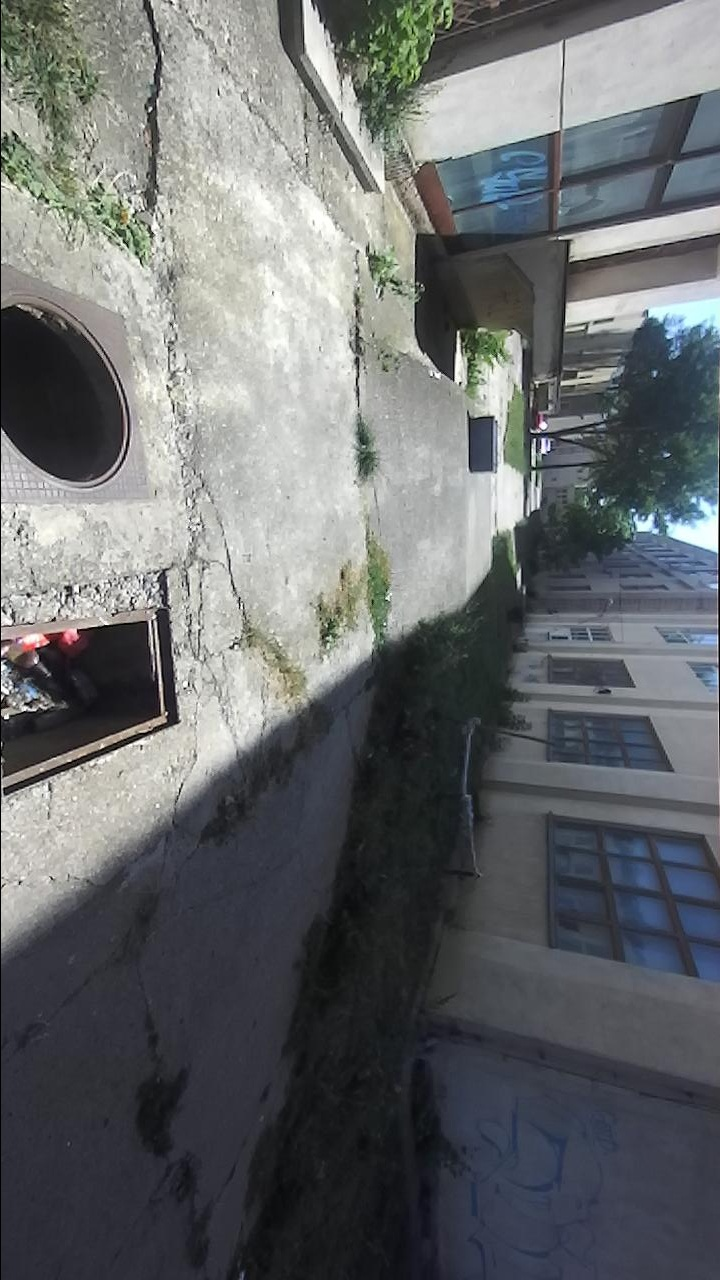drain: (1, 599, 188, 806), (0, 291, 133, 493)
